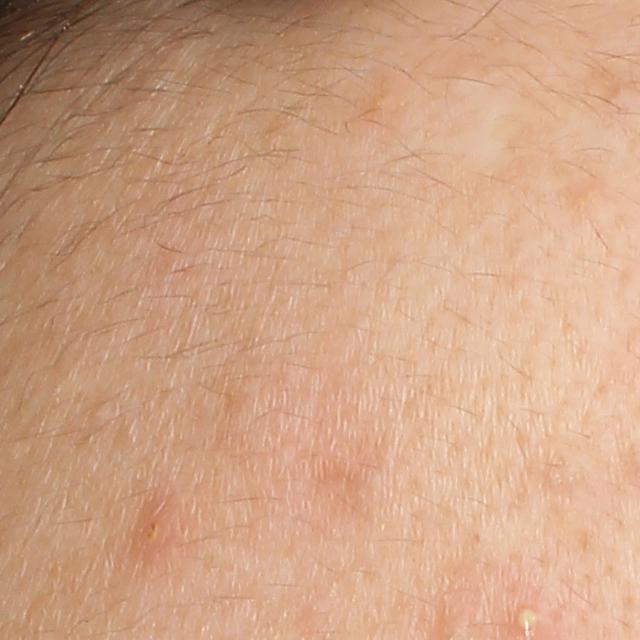comedo: (87, 401, 113, 425)
other: (395, 73, 555, 188)
pustule: (510, 604, 548, 639)
